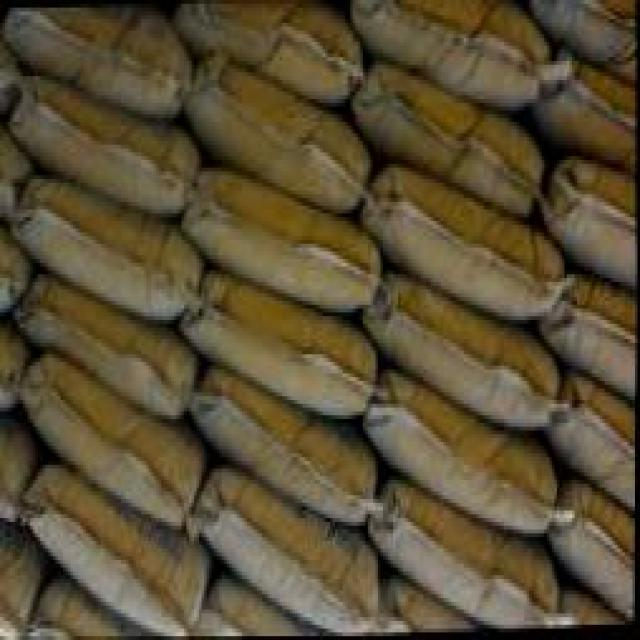gunny_bag: (24, 347, 205, 524), (376, 365, 559, 539), (187, 164, 388, 316), (30, 465, 210, 634), (188, 53, 376, 209), (371, 170, 563, 321), (198, 370, 382, 526), (377, 280, 560, 434), (205, 475, 381, 631), (362, 61, 541, 214), (191, 275, 376, 423), (371, 489, 557, 631), (12, 71, 196, 212), (17, 175, 195, 320), (17, 273, 193, 416), (367, 0, 546, 115), (7, 4, 187, 113), (178, 0, 361, 105), (545, 155, 638, 293), (549, 268, 638, 399), (542, 56, 637, 174), (555, 485, 636, 622), (558, 367, 637, 507), (207, 570, 350, 638), (537, 0, 637, 88), (0, 209, 27, 308), (0, 426, 29, 517), (0, 324, 24, 414), (0, 37, 17, 121)
